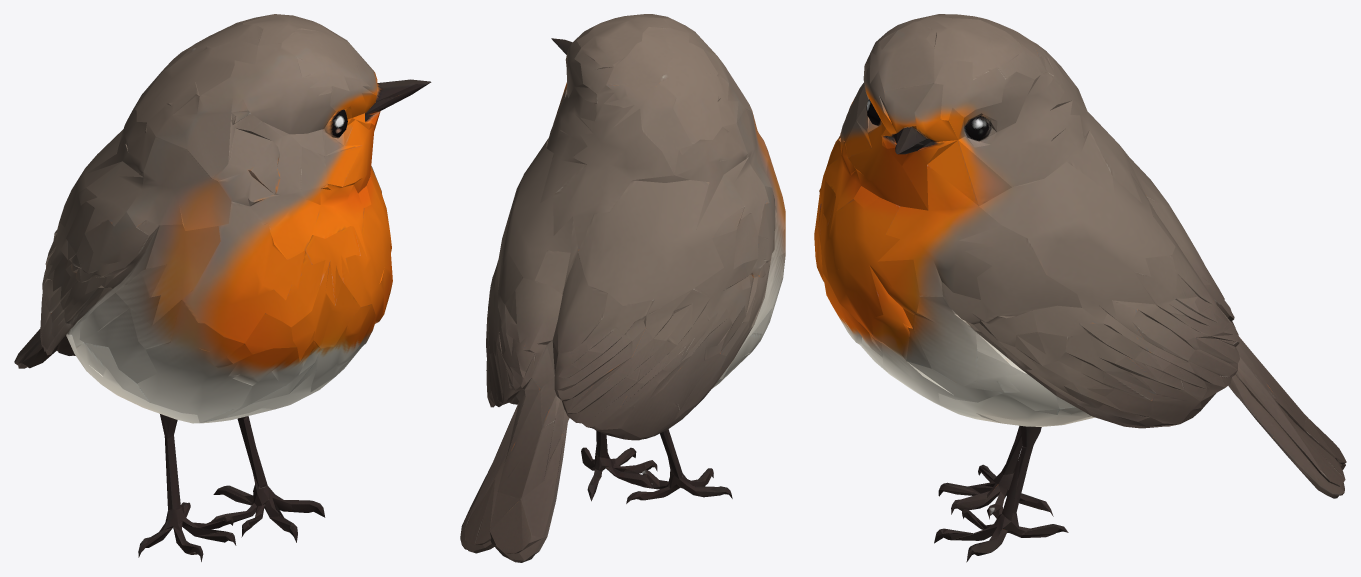
File: robin.glb
The picture shows the model from 3 angles, left to right: view 1: azimuth 30°, elevation 25°; view 2: azimuth 150°, elevation 25°; view 3: azimuth 270°, elevation 25°; orthographic projection. The views are drawn at different scales.
Size of the model in its own units: 1.16 by 1.9 by 1.79.
Materials: 1 (1 with a texture image).
